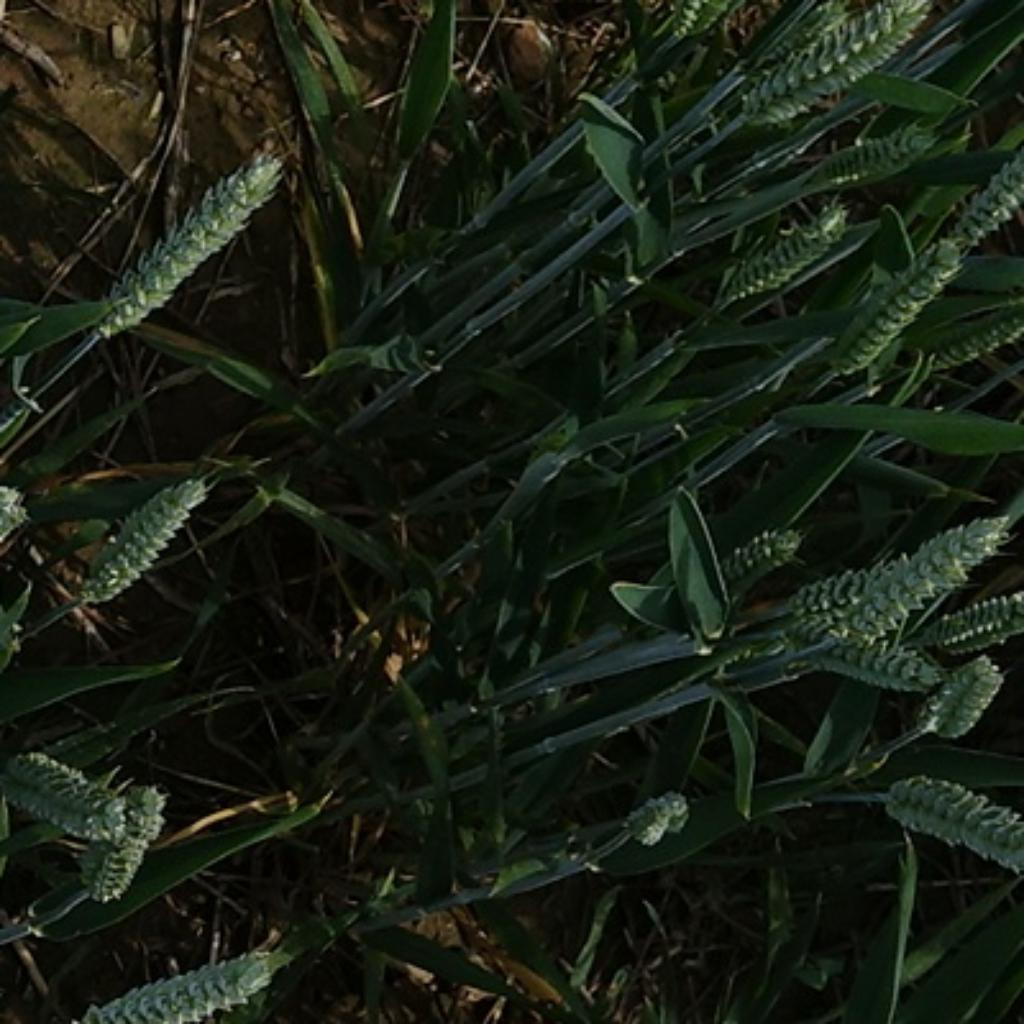0-0: (76, 128, 302, 348), (788, 509, 1003, 655), (806, 217, 972, 376), (768, 0, 962, 128), (68, 465, 216, 619), (61, 936, 289, 1024), (714, 189, 862, 302), (883, 760, 1024, 875), (0, 742, 135, 852), (69, 785, 184, 913), (911, 284, 1024, 389), (897, 576, 1019, 663), (936, 148, 1024, 261), (793, 550, 916, 627), (796, 629, 939, 693), (819, 122, 944, 184), (706, 517, 808, 588), (921, 652, 1008, 734), (611, 780, 698, 861), (752, 8, 846, 65)
